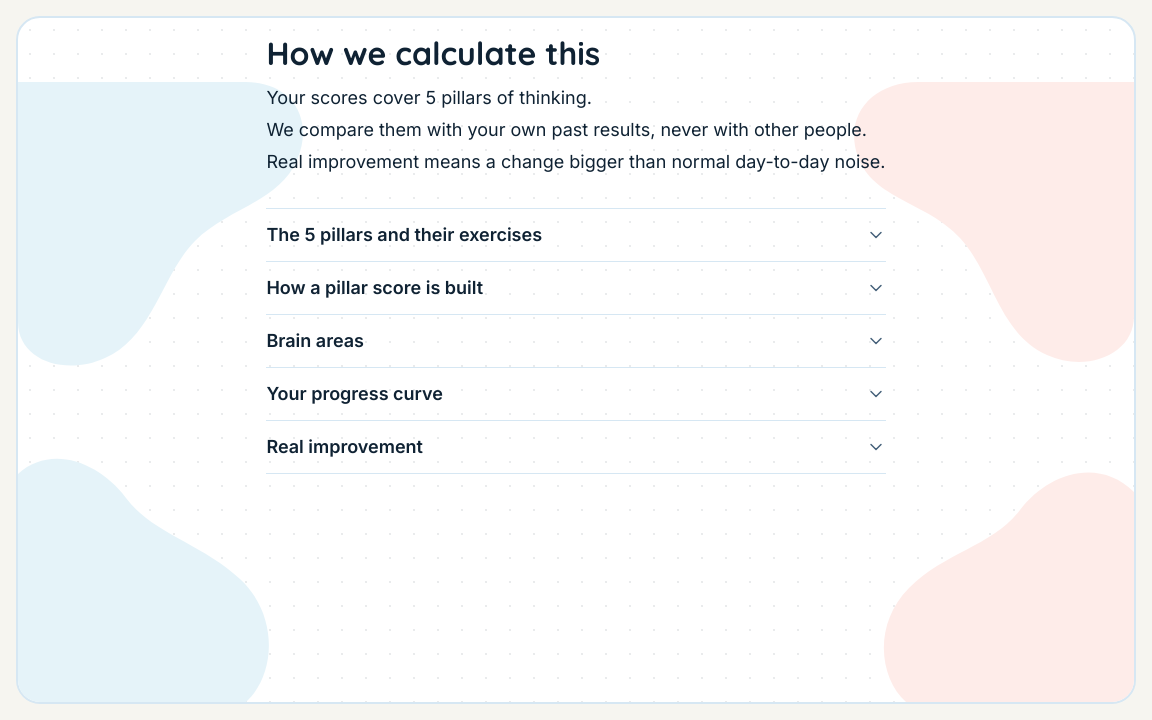
How we calculate this (/methodology) › lists every pillar with its exercises by consumer name
The width and height of the screenshot is (1152, 720).
What coordinates should you click on to do the following:
click the heading "The 5 pillars and their exercises"
I would click on:
 (404, 235)
Its box is [266,224,886,245].
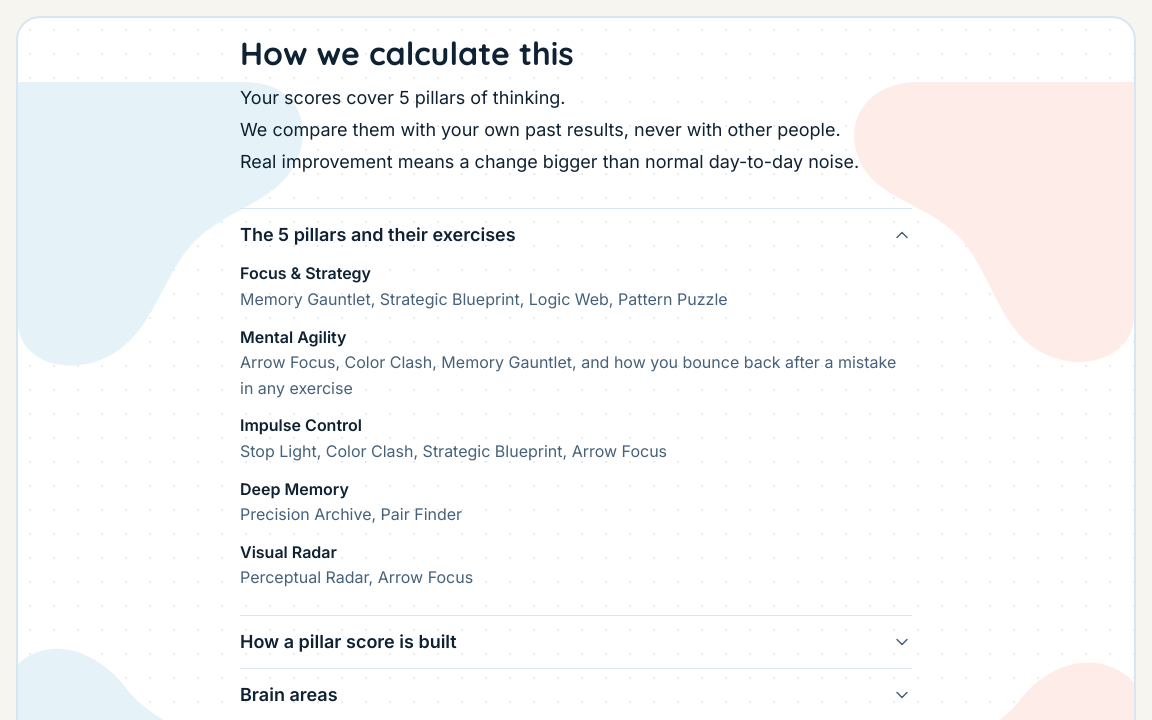
Result: the text "Focus & Strategy" is shown at [240,263,371,283]
Result: the text "Mental Agility" is shown at [240,327,346,347]
Result: the text "Impulse Control" is shown at [240,415,362,435]
